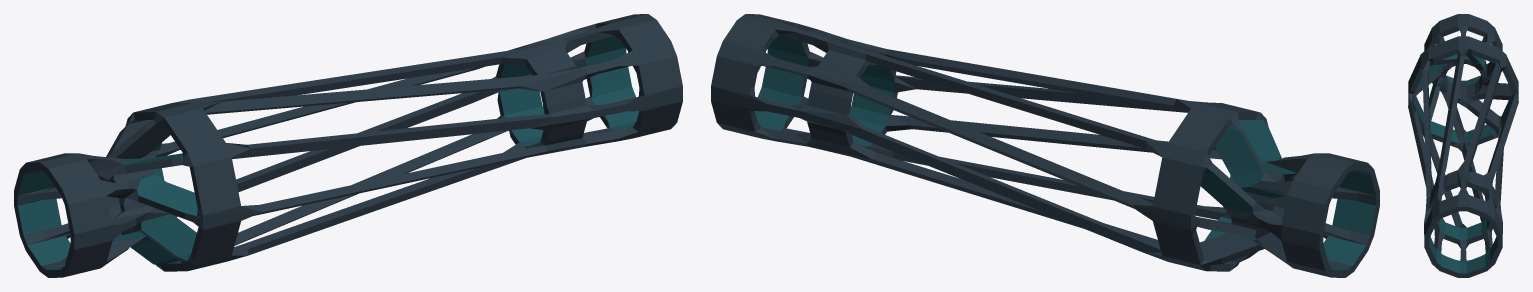
Rendered from GrabLower.fbx.
3 views of the same model, side by side, from view 1: azimuth 30°, elevation 25°; view 2: azimuth 150°, elevation 25°; view 3: azimuth 270°, elevation 25° (orthographic). The views are drawn at different scales.
Parts seen in each view (by area): view 1: Cylinder.006; view 2: Cylinder.006; view 3: Cylinder.006.
Boxes of the visible parts, left/top/right/bottom form: Cylinder.006: left=14, top=14, right=682, bottom=277; Cylinder.006: left=711, top=14, right=1379, bottom=277; Cylinder.006: left=1408, top=14, right=1518, bottom=277.
Bounding box in the file's own units: 191 × 46.36 × 46.36.
